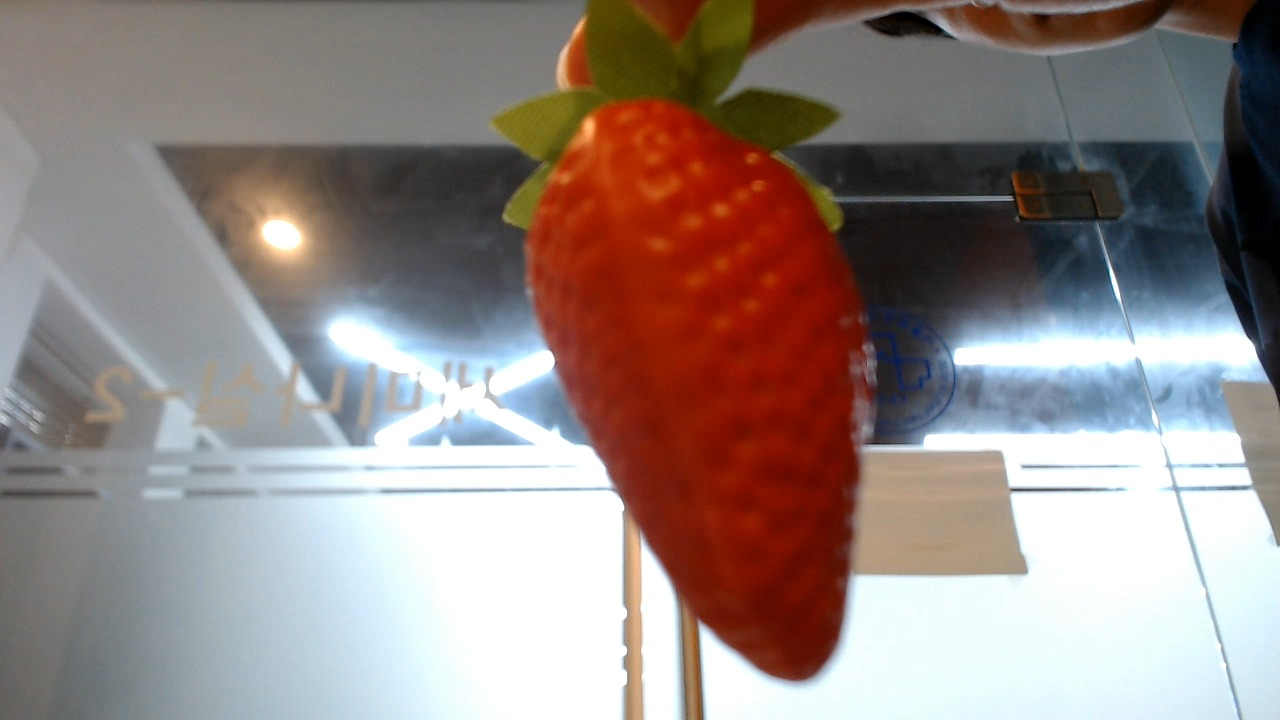strawberry: (483, 81, 879, 689)
